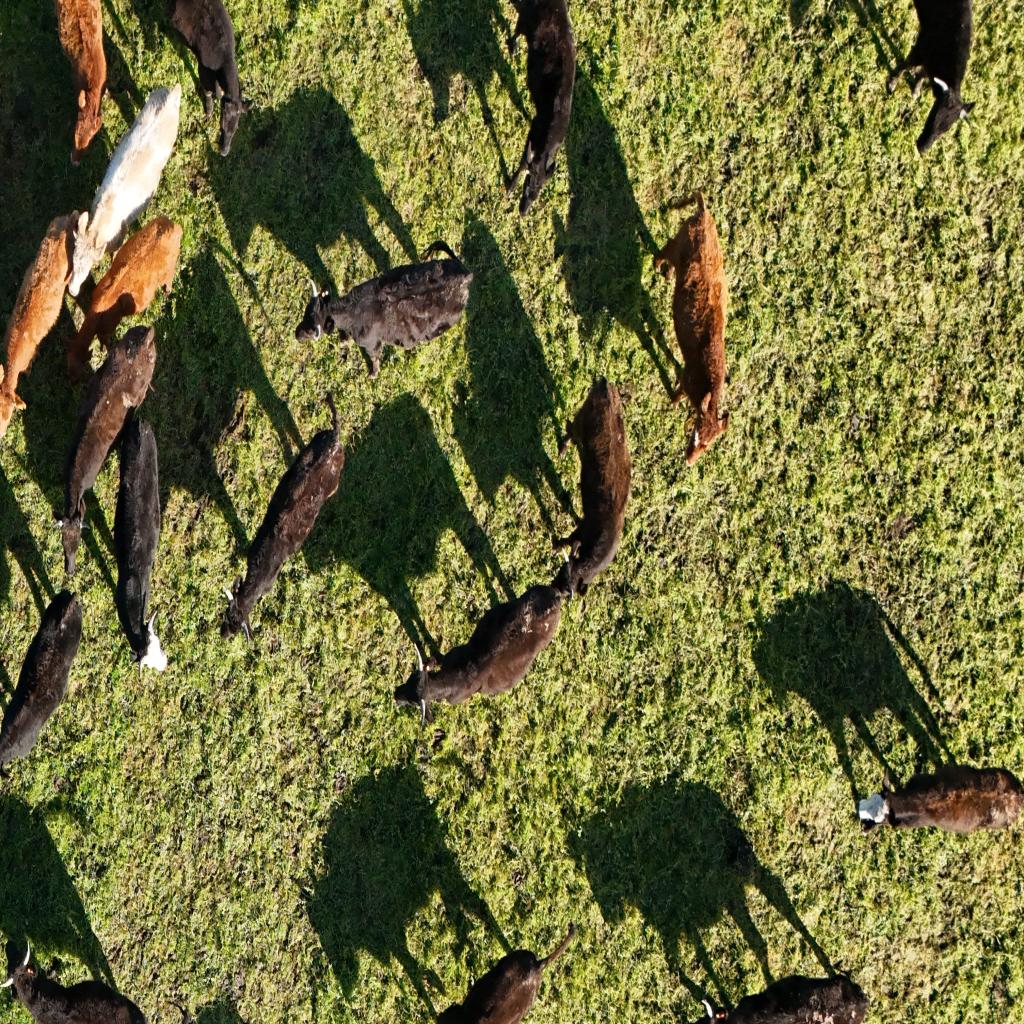cow: (44, 75, 211, 315), (222, 394, 346, 644), (393, 569, 577, 731), (56, 325, 156, 577), (63, 208, 186, 384), (316, 242, 466, 385), (835, 736, 1021, 844), (1, 214, 84, 438), (110, 405, 174, 680), (555, 378, 632, 606), (672, 192, 734, 457), (433, 911, 582, 1021), (0, 592, 84, 776), (506, 2, 576, 220), (883, 0, 980, 155), (161, 0, 254, 155), (2, 928, 152, 1024), (692, 966, 858, 1022), (52, 0, 109, 163)
